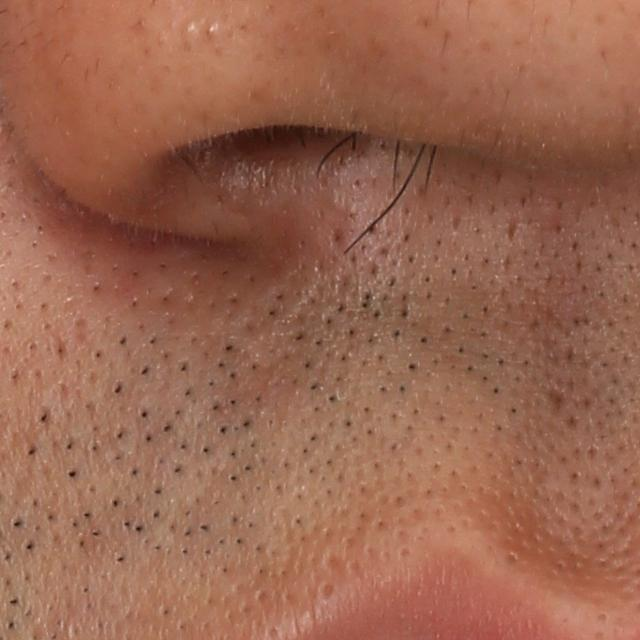atrophic_scar: (540, 381, 570, 416)
